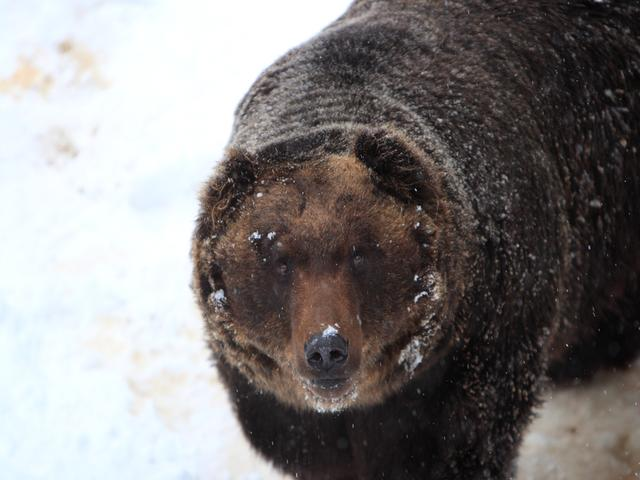Bear: (173, 7, 613, 470)
